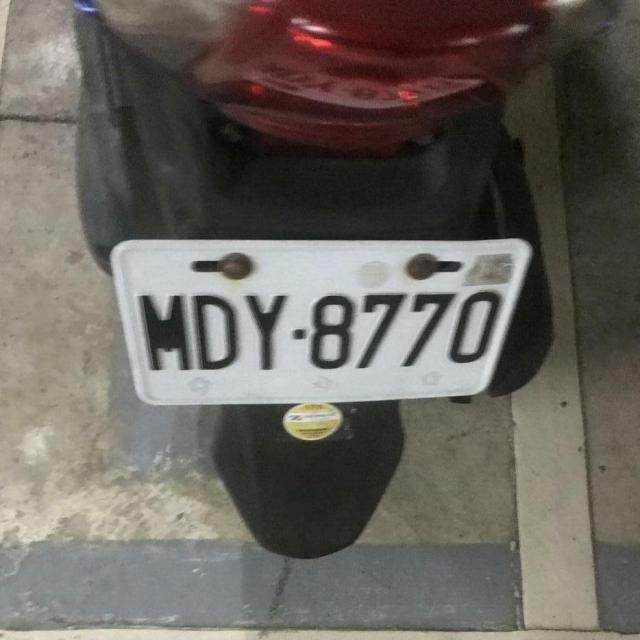W: (106, 232, 535, 416)
